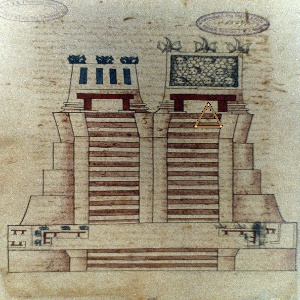triangle: (190, 99, 226, 132)
